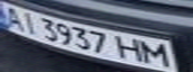3: (33, 15, 60, 43), (69, 25, 90, 52)
7: (87, 28, 112, 56)
9: (51, 20, 75, 46)
A: (0, 5, 30, 30)
H: (115, 34, 148, 63)
I: (15, 9, 42, 36)
M: (139, 39, 175, 69)
